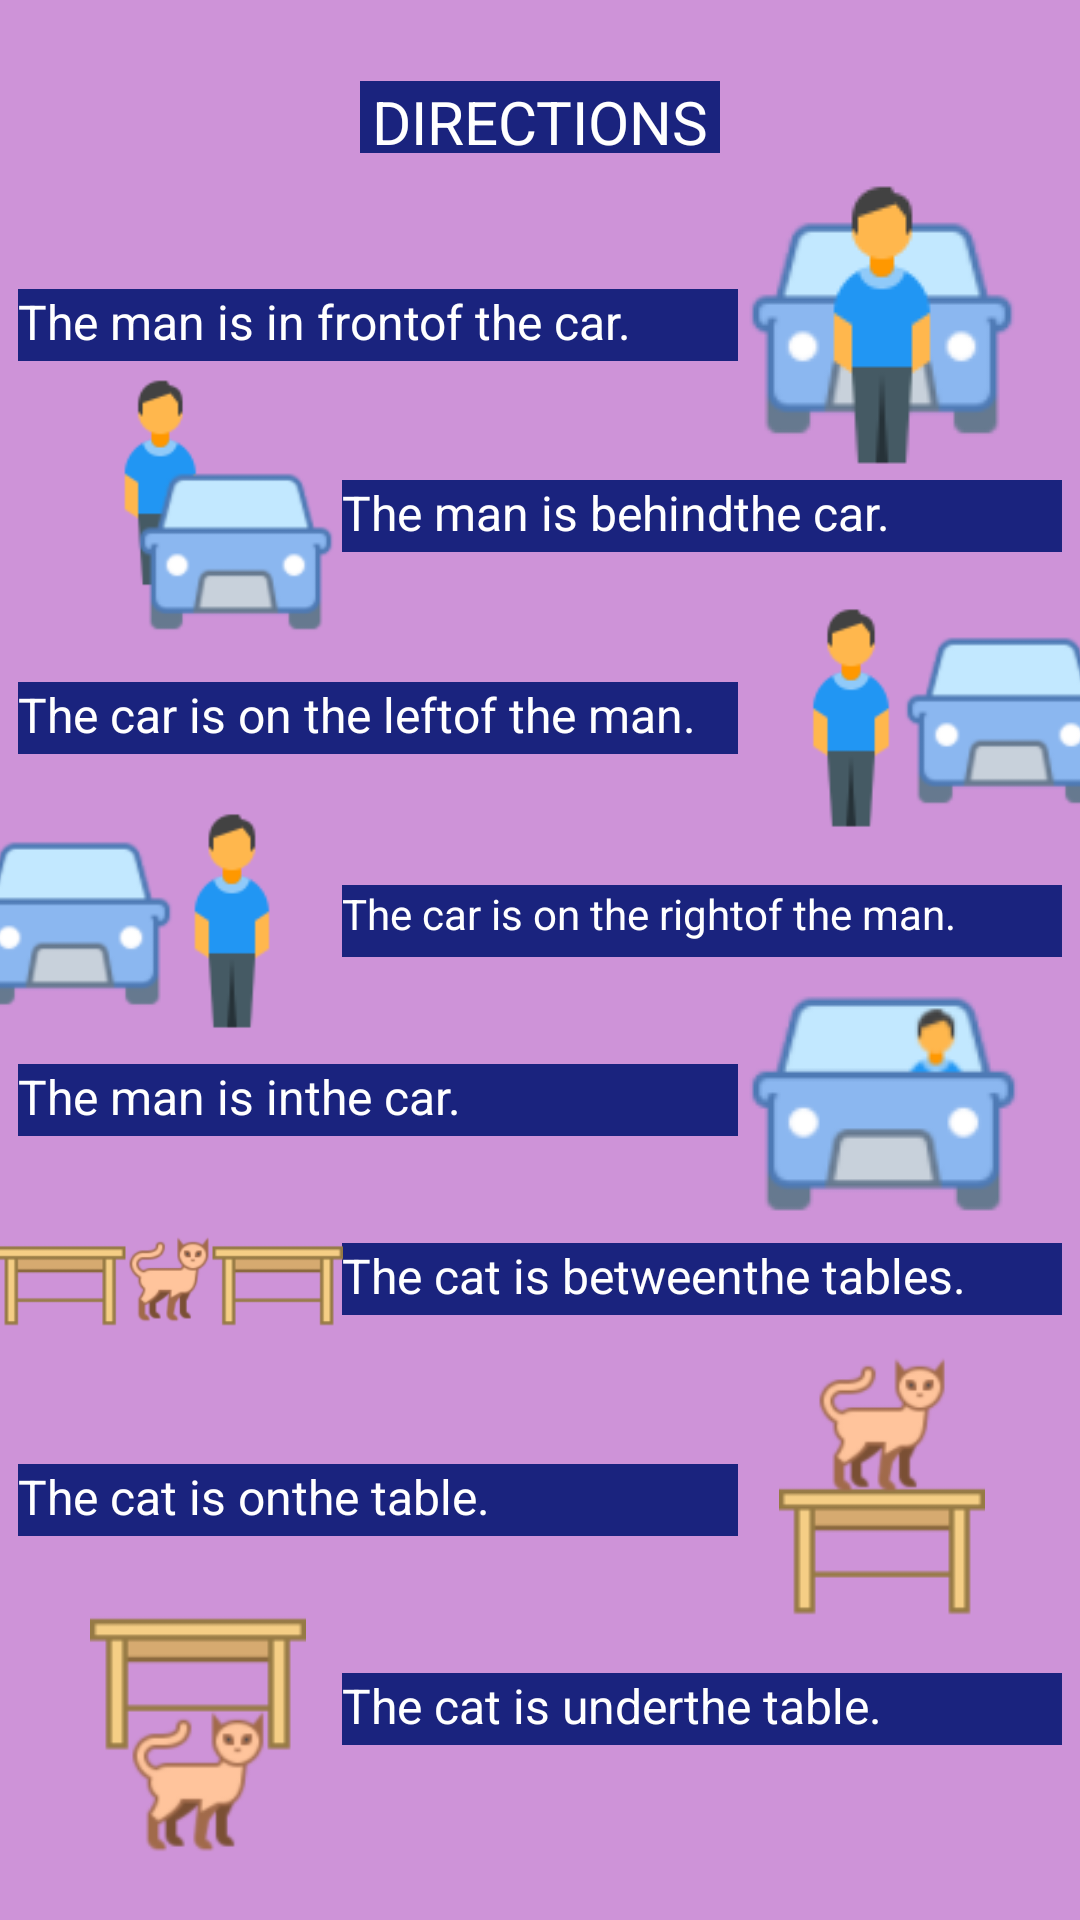

Where to tap for icons on this 1080x1920 app screen, as point (x, y):
manincar: point (883, 1100)
